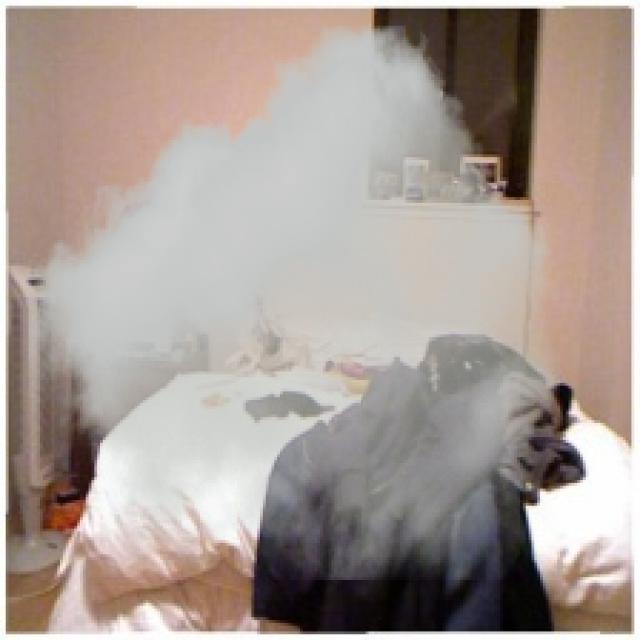smoke: (29, 26, 560, 580)
